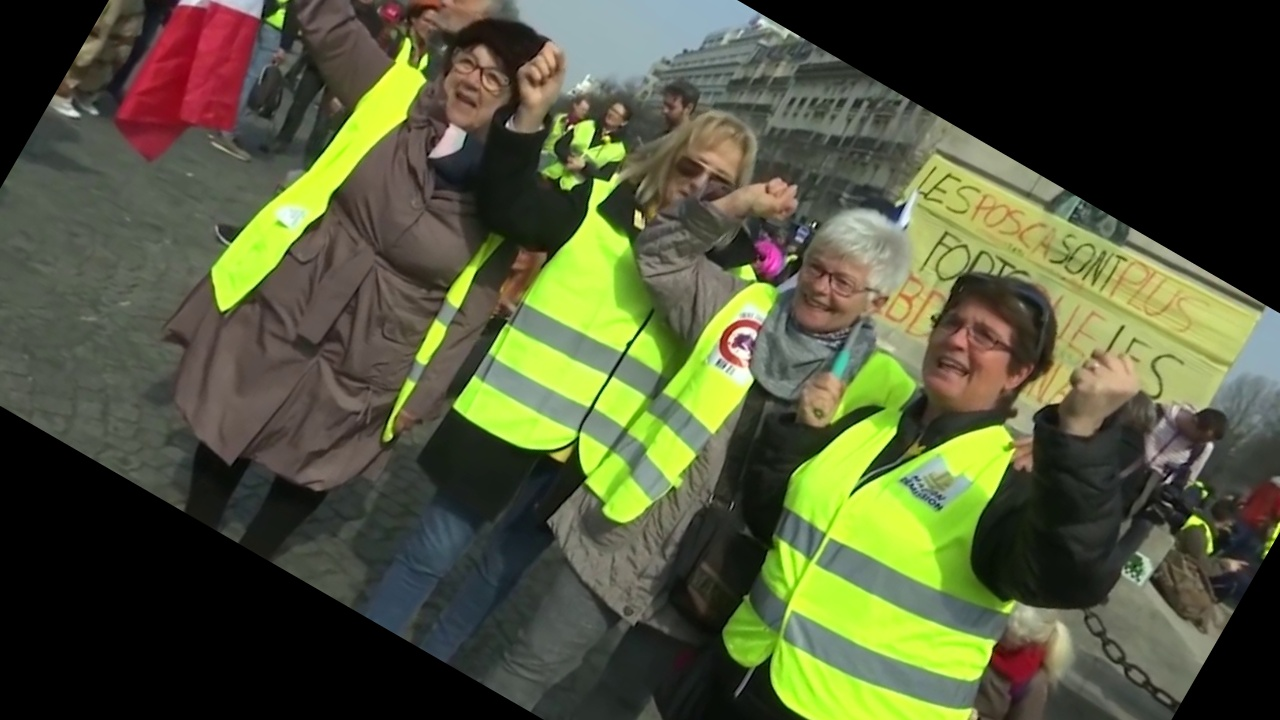NoHardhat: (868, 272, 1066, 713), (556, 113, 751, 344)
